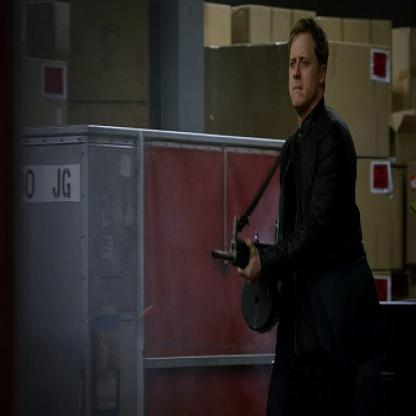Gun: (210, 212, 287, 340)
